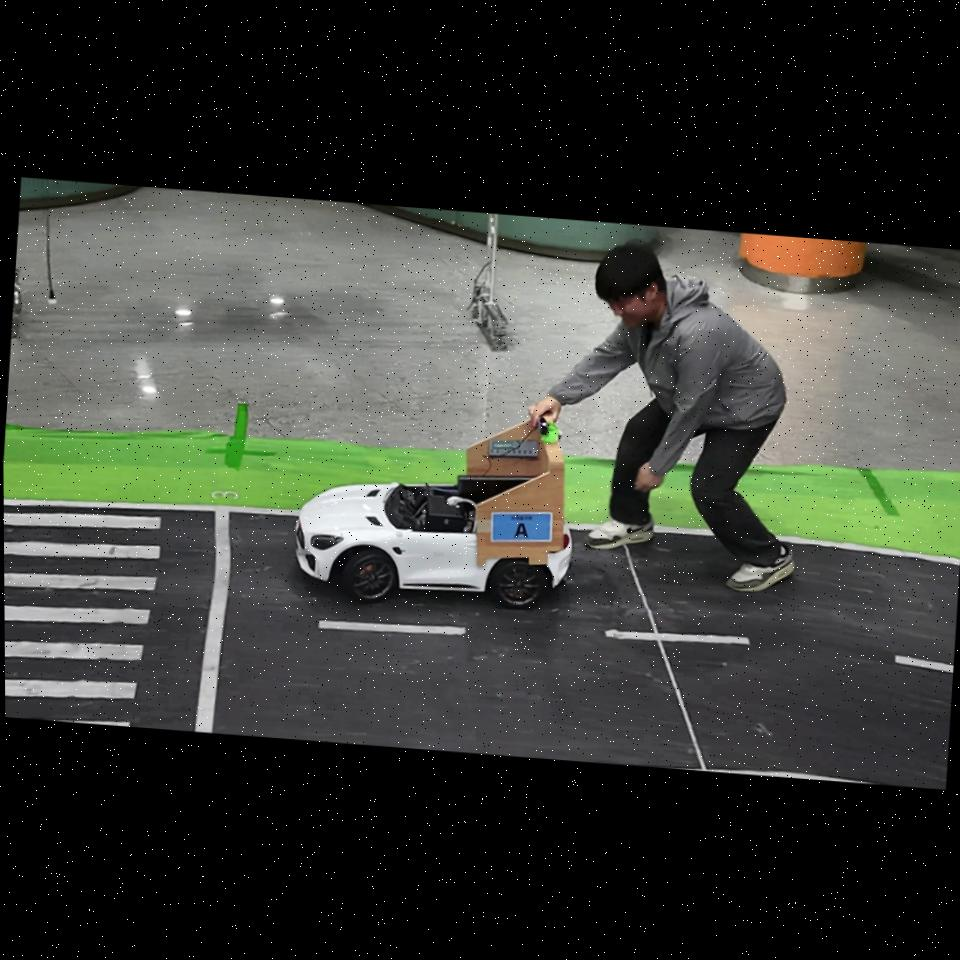broken_line: (318, 620, 466, 635), (605, 629, 749, 644), (895, 656, 953, 674)
crosswalk: (4, 512, 162, 726)
